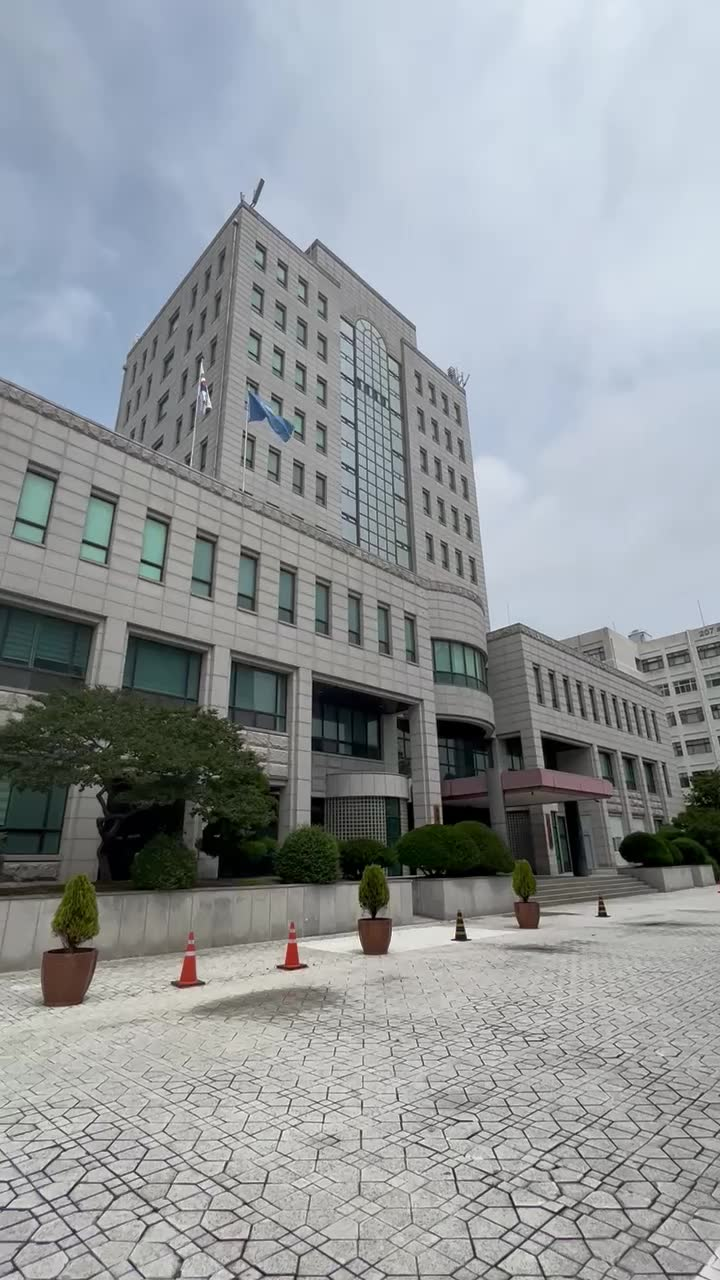low: (94, 190, 540, 732)
